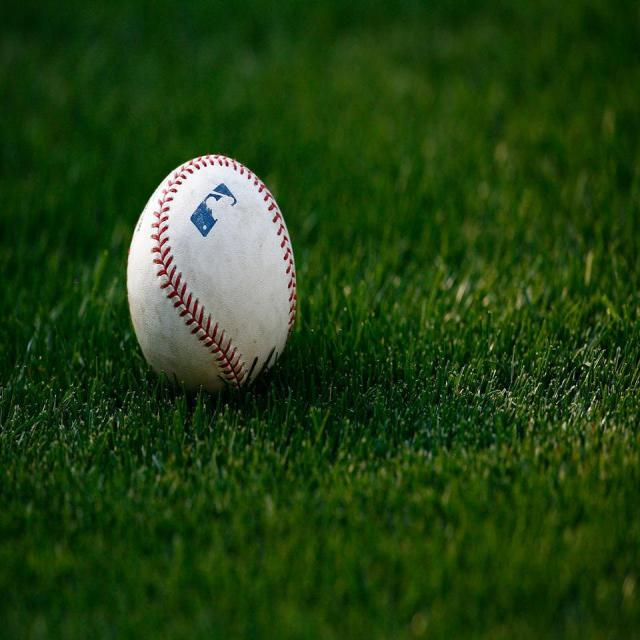baseball: (125, 156, 296, 398)
